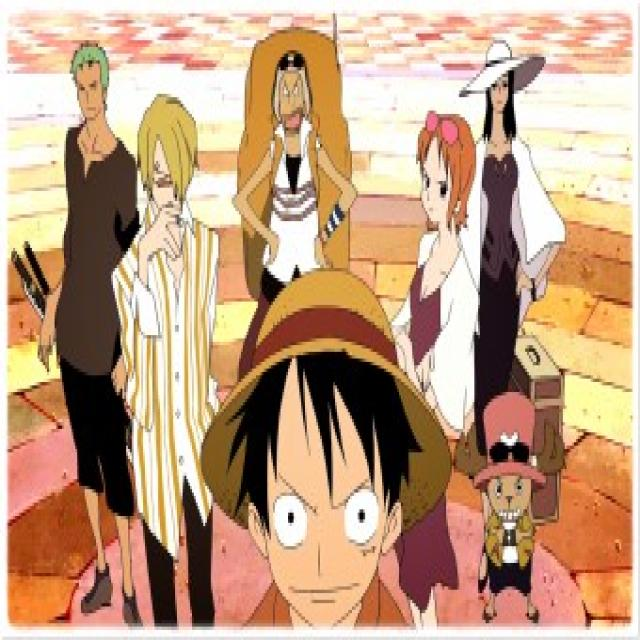Chyopa: (454, 398, 563, 625)
Luffy: (193, 260, 450, 640)
Nami: (409, 106, 484, 240)
NicoRobin: (483, 30, 537, 143)
Sangdi: (134, 79, 201, 227)
Usopp: (263, 43, 322, 148)
Zoro: (70, 36, 112, 128)
